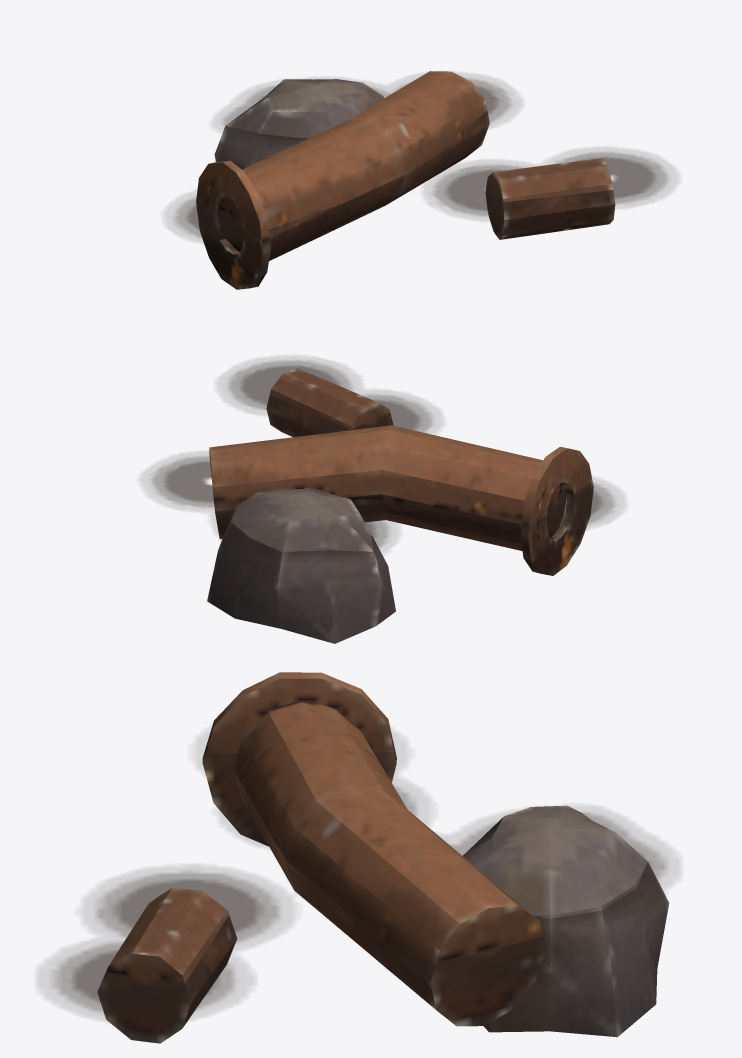
3 renders of one model, top to bottom at view 1: azimuth 30°, elevation 25°; view 2: azimuth 150°, elevation 25°; view 3: azimuth 270°, elevation 25°, orthographic. The views are drawn at different scales.
Parts seen in each view (by area): view 1: Pipe, GroundShade, PipeStone; view 2: Pipe, PipeStone, GroundShade; view 3: Pipe, GroundShade, PipeStone.
Boxes of the visible parts, <box> form: Pipe: <box>196,71,615,289</box>; GroundShade: <box>166,73,677,246</box>; PipeStone: <box>214,79,384,169</box>; Pipe: <box>209,368,593,575</box>; PipeStone: <box>207,487,395,643</box>; GroundShade: <box>141,356,623,561</box>; Pipe: <box>97,672,545,1043</box>; GroundShade: <box>39,733,677,1022</box>; PipeStone: <box>463,805,669,1037</box>.
Bounding box in the file's own units: 12.8 × 3.37 × 11.46.
3 materials, 3 textured.
